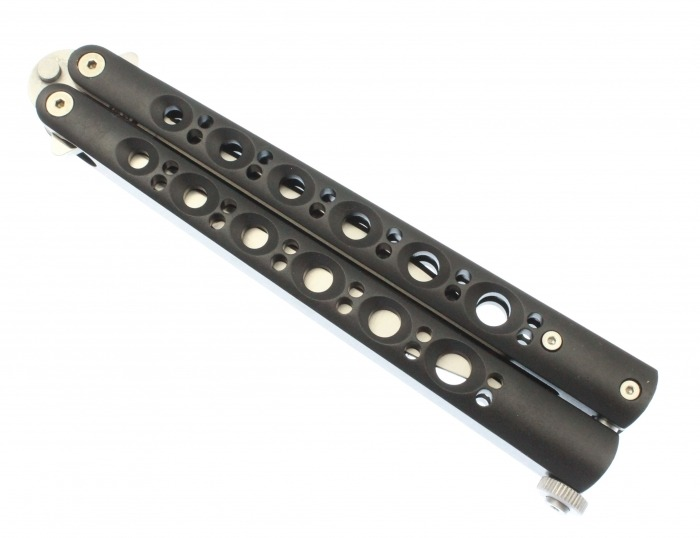knife: (25, 33, 675, 519)
